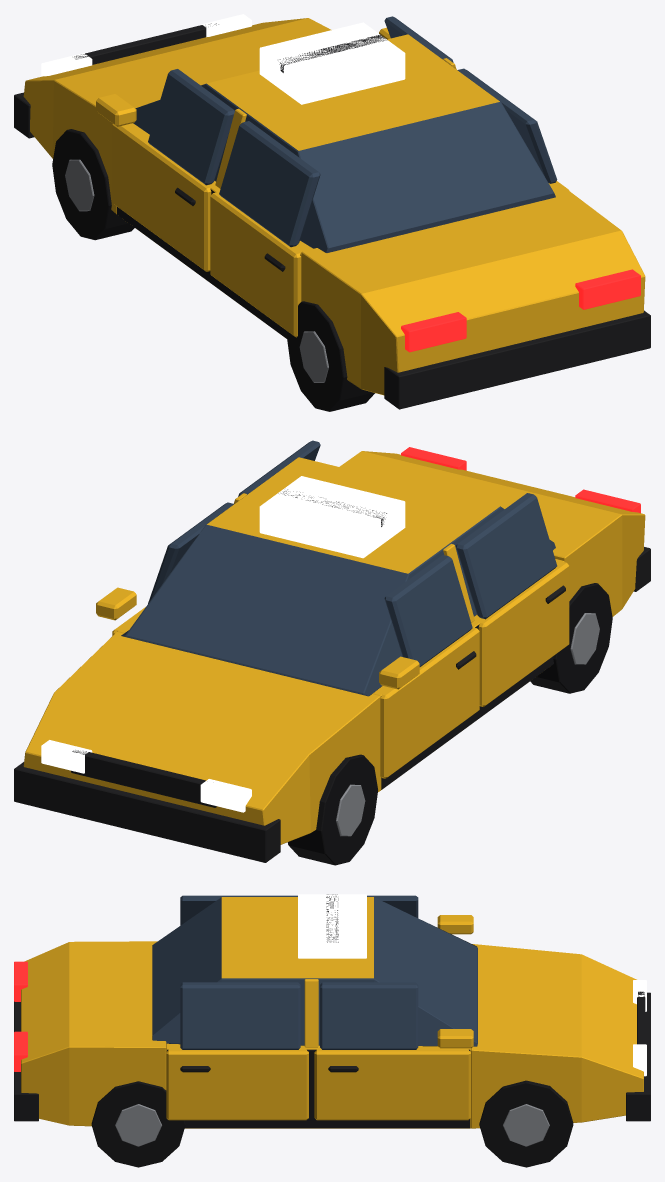
The model's file is car_taxi.glb.
3 renders of one model, top to bottom at view 1: azimuth 30°, elevation 25°; view 2: azimuth 150°, elevation 25°; view 3: azimuth 270°, elevation 25°, orthographic. The views are drawn at different scales.
Visible parts, largest first — view 1: car_body, car_door_FL, car_door_RL, car_door_RR, car_door_FR; view 2: car_body, car_door_FL, car_door_RL, car_door_FR, car_door_RR; view 3: car_body, car_door_FR, car_door_RR, car_door_FL, car_door_RL.
Part boxes in pixels (left/top/right/bottom): car_body: left=14, top=14, right=650, bottom=411; car_door_FL: left=96, top=69, right=234, bottom=271; car_door_RL: left=210, top=121, right=320, bottom=337; car_door_RR: left=457, top=68, right=569, bottom=190; car_door_FR: left=379, top=16, right=453, bottom=62; car_body: left=14, top=447, right=650, bottom=865; car_door_FL: left=379, top=555, right=479, bottom=778; car_door_RL: left=456, top=493, right=569, bottom=706; car_door_FR: left=96, top=502, right=233, bottom=635; car_door_RR: left=238, top=440, right=320, bottom=496; car_body: left=14, top=894, right=650, bottom=1167; car_door_FR: left=314, top=982, right=473, bottom=1120; car_door_RR: left=166, top=982, right=308, bottom=1120; car_door_FL: left=367, top=895, right=473, bottom=934; car_door_RL: left=180, top=895, right=297, bottom=925.
Size of the model in its own units: 2.1 by 1.58 by 4.6.
